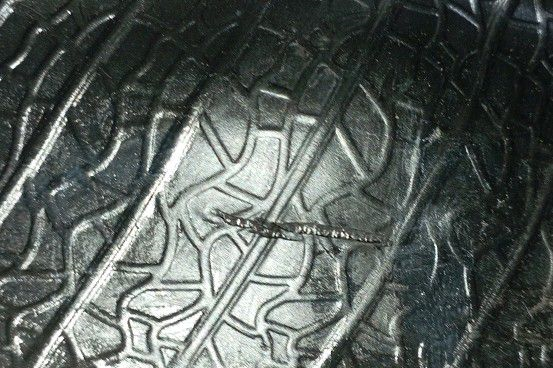cut: (210, 206, 394, 248)
